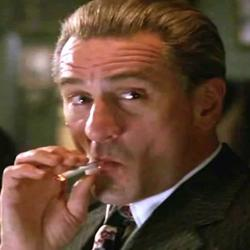smoking: (55, 154, 128, 184)
